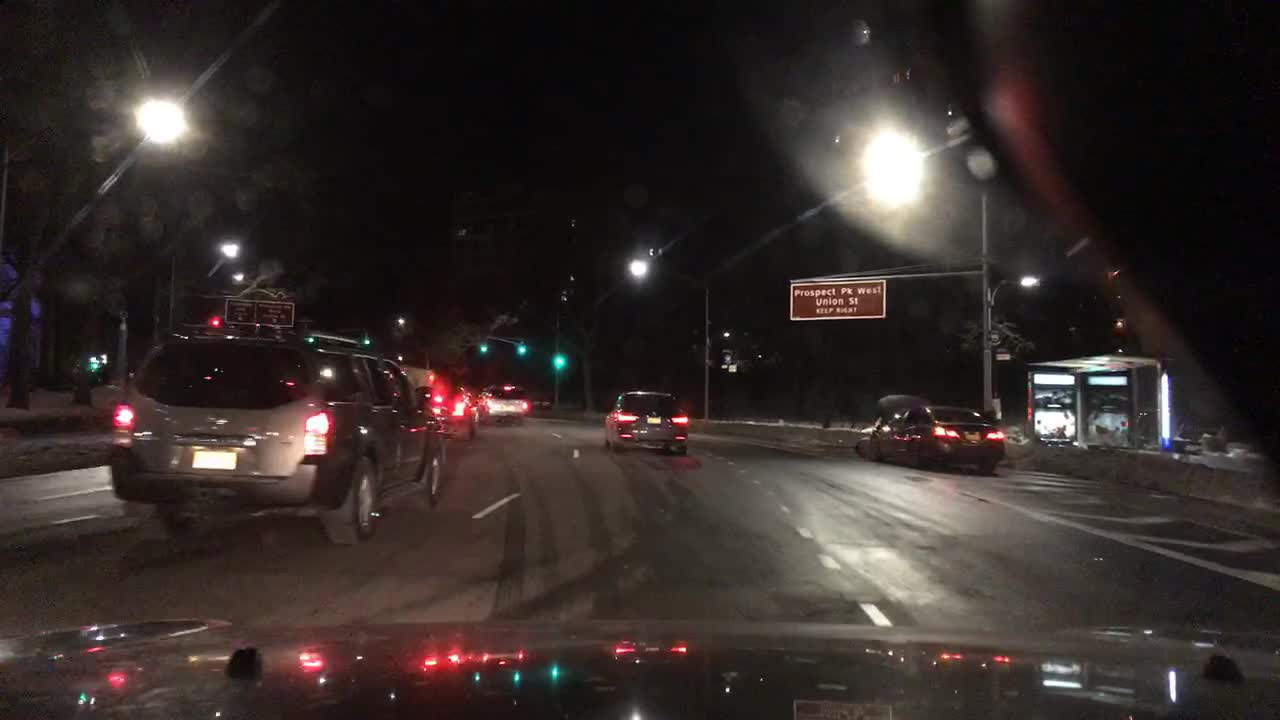car: (109, 331, 449, 546), (866, 403, 1005, 475), (602, 389, 687, 455), (419, 383, 478, 442), (474, 382, 531, 424)
traffic light: (554, 354, 569, 368), (361, 335, 371, 347), (517, 344, 525, 356), (479, 341, 487, 353), (210, 319, 220, 328)
traffic sign: (788, 279, 885, 318), (225, 297, 294, 328), (994, 347, 1010, 361)
